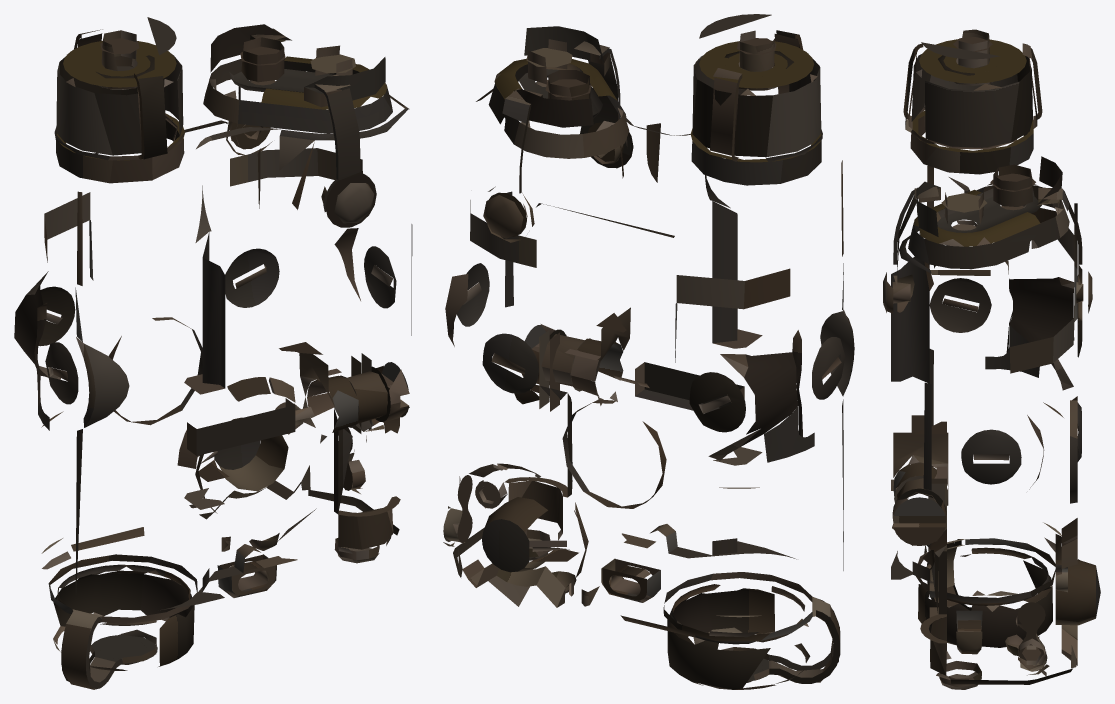
File: Laser_Rifle.fbx
3 views of the same model, side by side, from view 1: azimuth 30°, elevation 25°; view 2: azimuth 150°, elevation 25°; view 3: azimuth 270°, elevation 25° (orthographic). The views are drawn at different scales.
Parts seen in each view (by area): view 1: asset_Laser_Rifle.001; view 2: asset_Laser_Rifle.001; view 3: asset_Laser_Rifle.001.
Part boxes in pixels (bbox=[...]): asset_Laser_Rifle.001: bbox=[14, 17, 412, 689]; asset_Laser_Rifle.001: bbox=[443, 14, 854, 689]; asset_Laser_Rifle.001: bbox=[883, 29, 1100, 689].
Bounding box in the file's own units: 0.0289 × 0.0504 × 0.0167.
